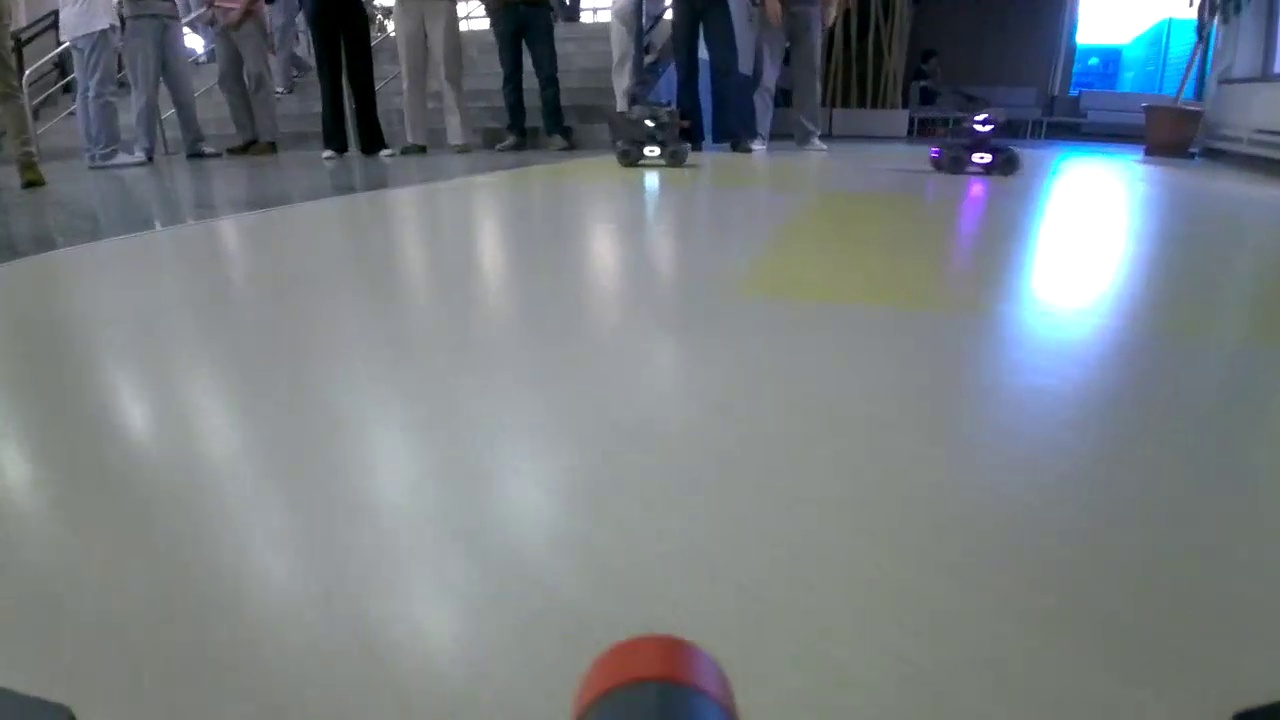robot: (929, 109, 1021, 177), (612, 102, 690, 168)
